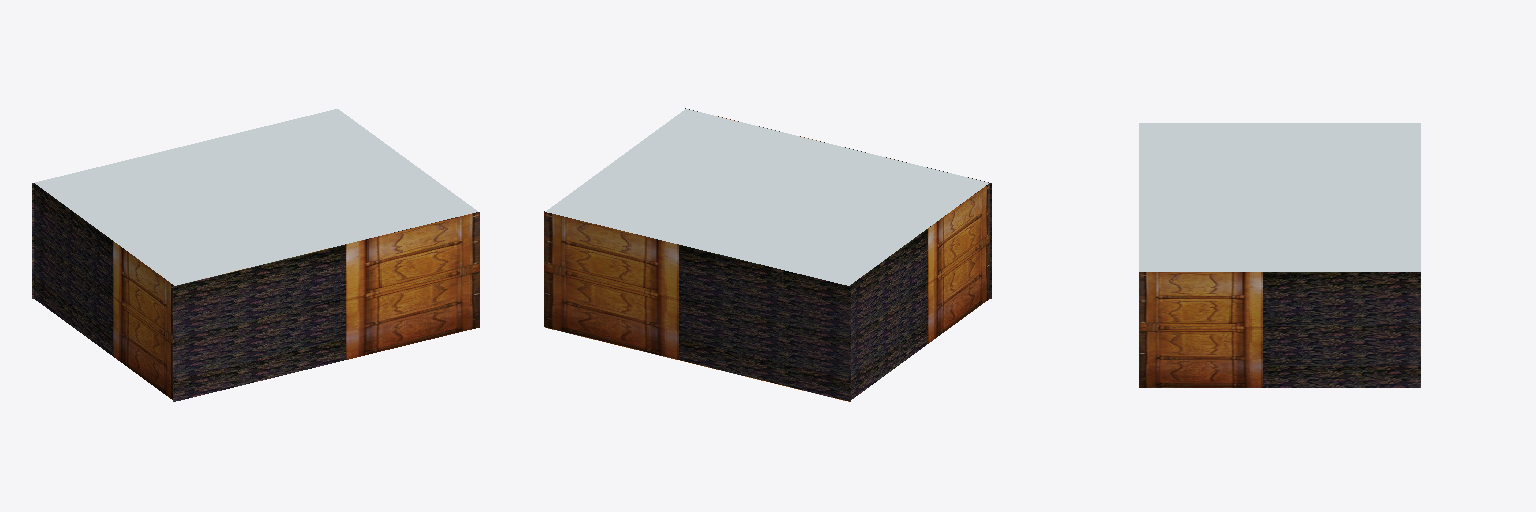
3 renders of one model, left to right at view 1: azimuth 30°, elevation 25°; view 2: azimuth 150°, elevation 25°; view 3: azimuth 270°, elevation 25°, orthographic.
Visible parts, largest first — view 1: TableLamp.001_Cylinder.013; view 2: TableLamp.001_Cylinder.013; view 3: TableLamp.001_Cylinder.013.
Part boxes in pixels (left/top/right/bottom): TableLamp.001_Cylinder.013: left=32, top=109, right=479, bottom=401; TableLamp.001_Cylinder.013: left=544, top=108, right=991, bottom=401; TableLamp.001_Cylinder.013: left=1139, top=123, right=1420, bottom=387.
Size of the model in its own units: 154 by 56.25 by 123.
16 materials, 13 textured.